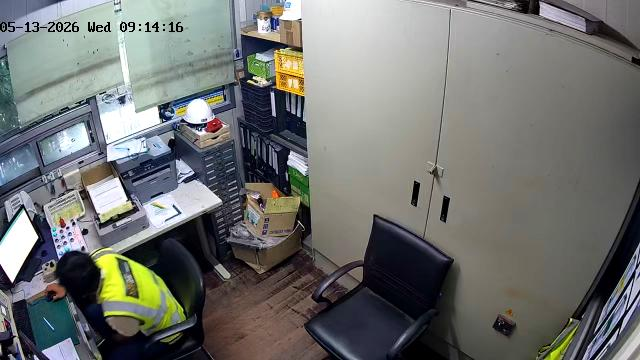Head: (56, 251, 100, 298)
People: (46, 248, 185, 339)
